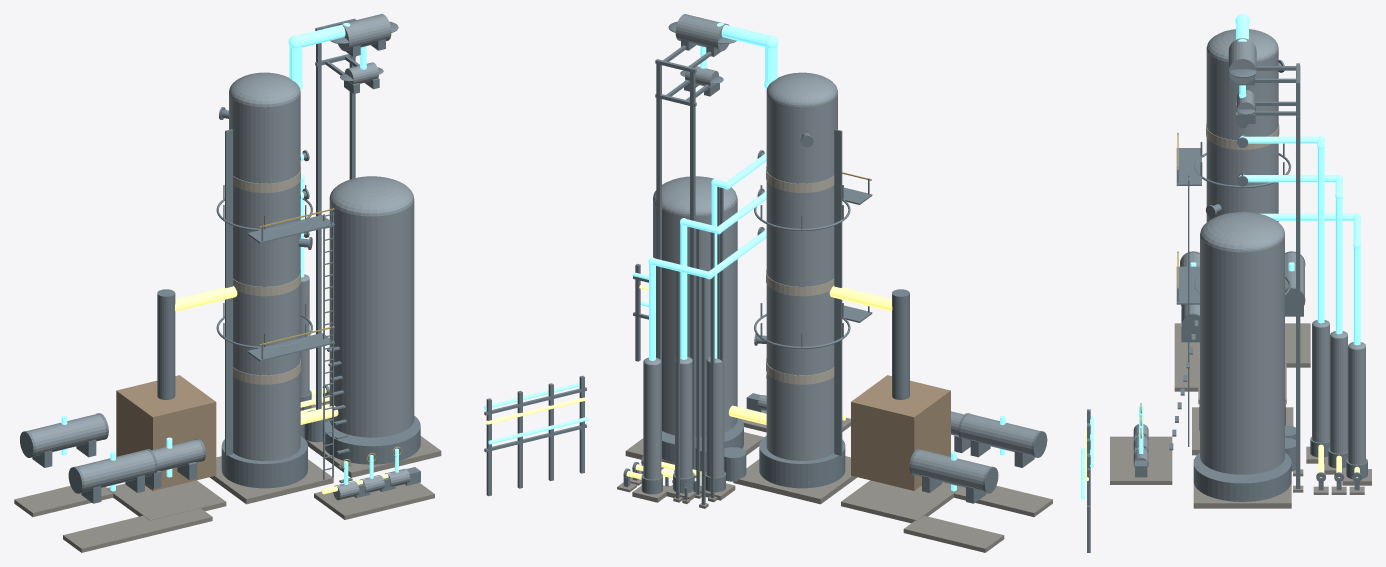
File: tower.glb
The picture shows the model from 3 angles, left to right: view 1: azimuth 30°, elevation 25°; view 2: azimuth 150°, elevation 25°; view 3: azimuth 270°, elevation 25°; orthographic projection.
Parts seen in each view (by area): view 1: Tower_Atmospheric_Shell, Tower_Vacuum_Shell, Heater, Foundation_Heater, Tower_Vacuum_Skirt, Tower_Atmospheric_Skirt, Ladder, PumpSkid_Base, Tower_Vacuum_Dome, Heater_Chimney, Condenser_Frame_0, Exchanger_1_Shell (+18 smaller); view 2: Tower_Atmospheric_ShellHalf, Heater, Tower_Vacuum_ShellHalf, Foundation_Heater, Ladder, Tower_Atmospheric_Skirt, Stripper_Diesel_Shell, Condenser_Frame_0, Heater_Chimney, Exchanger_2_Base, Exchanger_1_Shell, Exchanger_2_Shell (+29 smaller); view 3: Tower_Vacuum_Shell, Tower_Vacuum_ShellHalf, Tower_Atmospheric_Shell, Tower_Atmospheric_ShellHalf, Tower_Vacuum_Skirt, PumpSkid_Base, Stripper_Naphtha_Shell, Stripper_Kerosene_Shell, Stripper_Diesel_Shell, Condenser_Frame_1, Tower_Vacuum_Dome, Pipe_Side_Naphtha_Seg2 (+20 smaller).
Boxes of the visible parts, x1=… form: Tower_Atmospheric_Shell: x1=234, y1=91, x2=300, y2=460; Tower_Vacuum_Shell: x1=335, y1=198, x2=414, y2=437; Heater: x1=116, y1=375, x2=216, y2=490; Foundation_Heater: x1=106, y1=480, x2=226, y2=520; Tower_Vacuum_Skirt: x1=323, y1=416, x2=420, y2=464; Tower_Atmospheric_Skirt: x1=221, y1=436, x2=307, y2=488; Ladder: x1=225, y1=129, x2=232, y2=455; PumpSkid_Base: x1=314, y1=483, x2=434, y2=519; Tower_Vacuum_Dome: x1=330, y1=177, x2=413, y2=216; Heater_Chimney: x1=157, y1=289, x2=175, y2=399; Condenser_Frame_0: x1=316, y1=43, x2=321, y2=409; Exchanger_1_Shell: x1=76, y1=449, x2=155, y2=492; Tower_Atmospheric_ShellHalf: x1=766, y1=94, x2=833, y2=460; Heater: x1=851, y1=375, x2=950, y2=490; Tower_Vacuum_ShellHalf: x1=653, y1=200, x2=731, y2=437; Foundation_Heater: x1=841, y1=480, x2=960, y2=523; Ladder: x1=834, y1=129, x2=842, y2=455; Tower_Atmospheric_Skirt: x1=759, y1=436, x2=845, y2=488; Stripper_Diesel_Shell: x1=643, y1=362, x2=661, y2=479; Condenser_Frame_0: x1=690, y1=70, x2=695, y2=469; Heater_Chimney: x1=892, y1=289, x2=909, y2=399; Exchanger_2_Base: x1=903, y1=515, x2=1004, y2=552; Exchanger_1_Shell: x1=960, y1=414, x2=1039, y2=456; Exchanger_2_Shell: x1=911, y1=449, x2=990, y2=492; Tower_Vacuum_Shell: x1=1200, y1=232, x2=1242, y2=474; Tower_Vacuum_ShellHalf: x1=1242, y1=236, x2=1284, y2=474; Tower_Atmospheric_Shell: x1=1206, y1=49, x2=1242, y2=221; Tower_Atmospheric_ShellHalf: x1=1242, y1=49, x2=1278, y2=222; Tower_Vacuum_Skirt: x1=1193, y1=452, x2=1291, y2=501; PumpSkid_Base: x1=1110, y1=436, x2=1172, y2=484; Stripper_Naphtha_Shell: x1=1312, y1=324, x2=1329, y2=442; Stripper_Kerosene_Shell: x1=1330, y1=335, x2=1347, y2=453; Stripper_Diesel_Shell: x1=1348, y1=346, x2=1365, y2=464; Condenser_Frame_1: x1=1296, y1=82, x2=1300, y2=488; Tower_Vacuum_Dome: x1=1200, y1=212, x2=1284, y2=252; Pipe_Side_Naphtha_Seg2: x1=1317, y1=148, x2=1324, y2=323.
Size of what is drawn, in the model's own units: 32.8 by 29.3 by 17.77.
